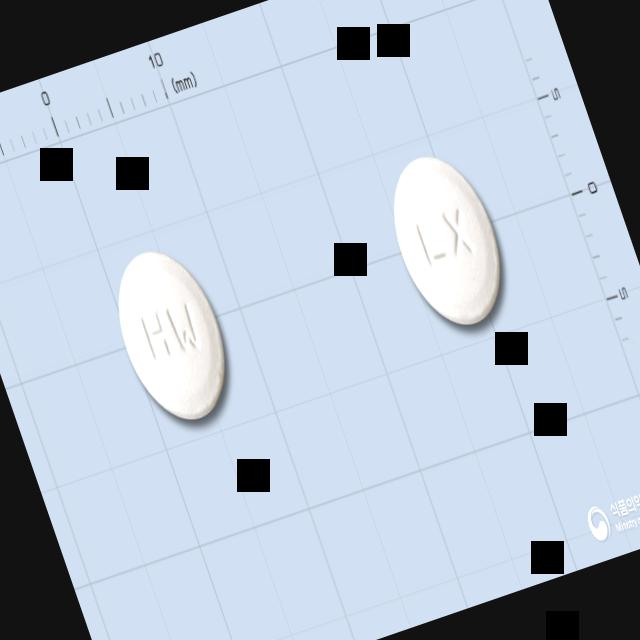Max-xacin: (373, 140, 521, 340), (98, 236, 245, 434)
